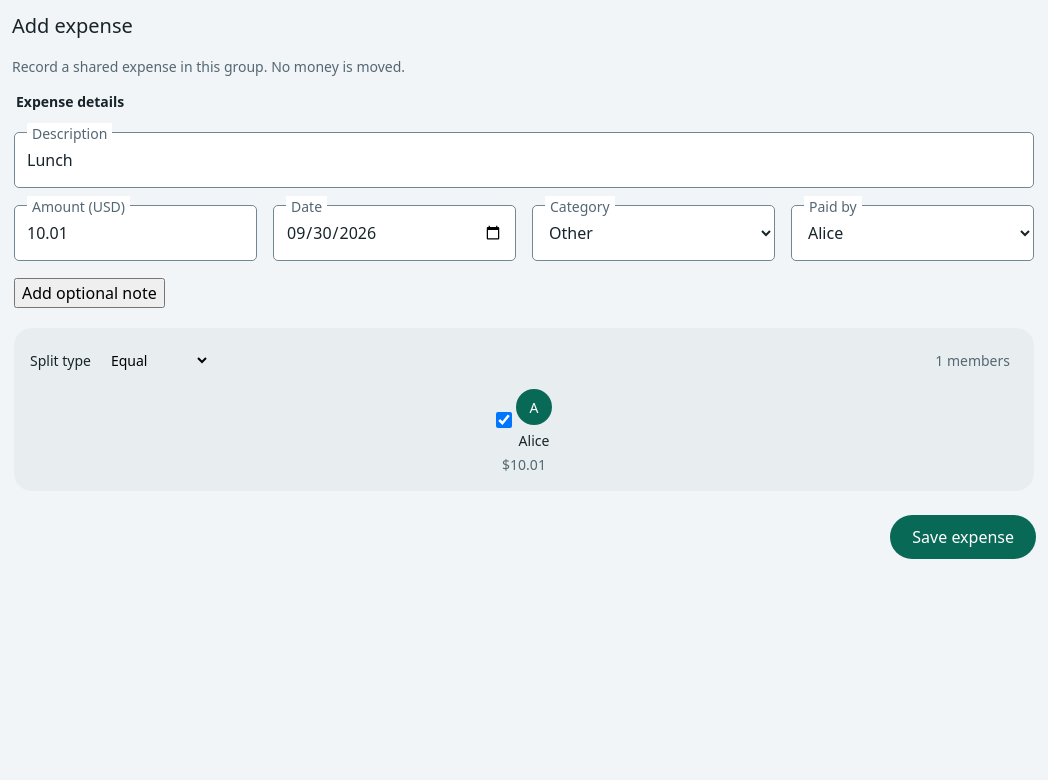
Test: does not send when storage fails before first submission
Click the button "Save expense" at (963, 537), box [890, 515, 1036, 559]
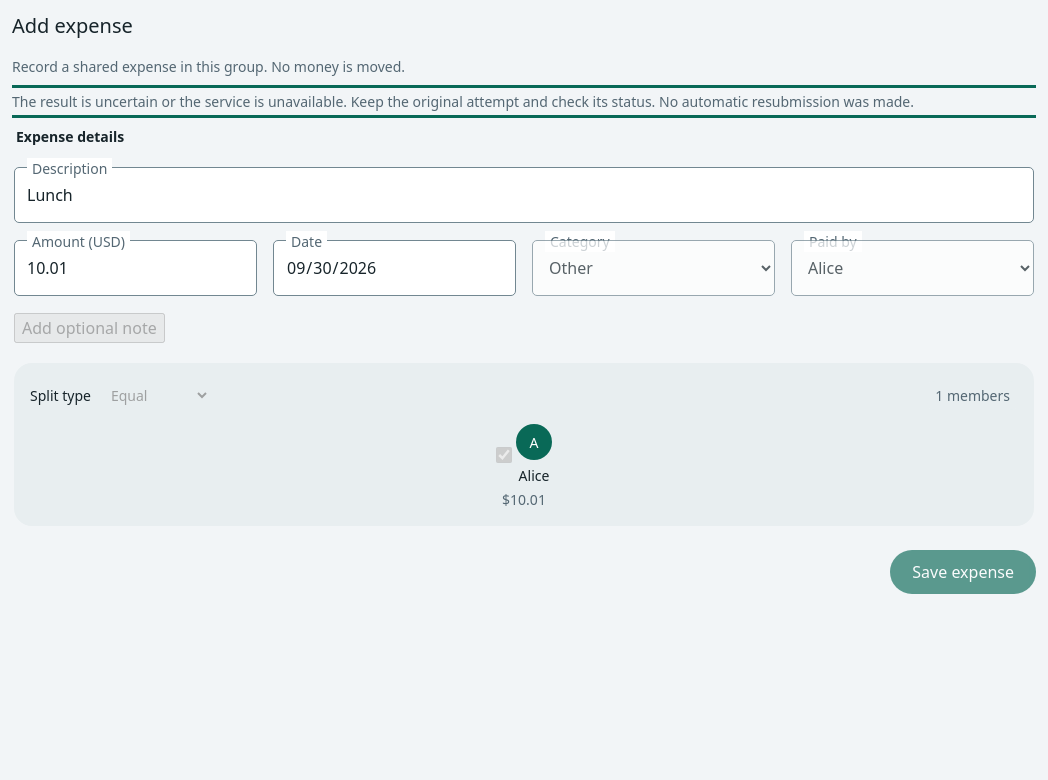
Expected: the element that starts with "Expense details" is disabled, [14, 126, 1034, 526]
